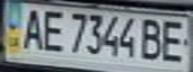3: (84, 11, 106, 56)
4: (118, 15, 142, 60), (103, 12, 124, 57)
7: (63, 9, 87, 55)
A: (18, 6, 48, 52)
B: (139, 16, 169, 61)
E: (157, 17, 190, 63), (39, 7, 69, 53)
